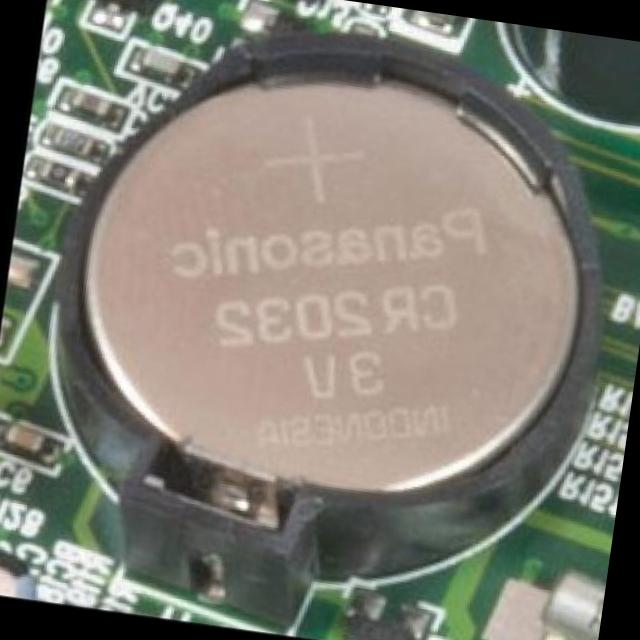capacitor: (62, 86, 122, 123), (130, 45, 190, 77), (0, 418, 44, 458)
resistor: (37, 126, 107, 165), (27, 155, 84, 193)
